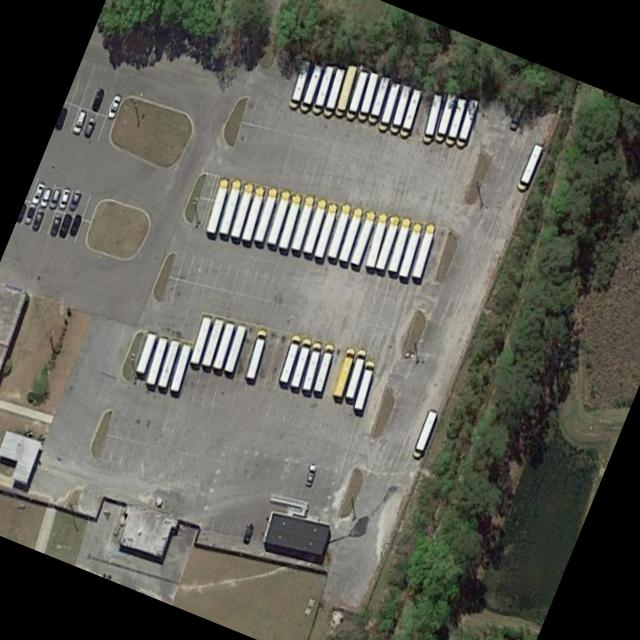large-vehicle: (240, 182, 266, 239), (252, 185, 278, 240), (348, 208, 374, 263), (397, 219, 422, 275), (301, 197, 327, 250), (266, 186, 291, 241), (326, 200, 350, 257), (312, 201, 337, 255), (515, 141, 542, 191), (332, 62, 357, 116), (411, 220, 435, 276), (374, 214, 399, 267), (276, 191, 300, 246), (290, 193, 314, 248), (338, 205, 362, 259), (229, 180, 253, 234), (205, 176, 228, 231), (297, 62, 322, 112), (344, 67, 368, 119), (376, 79, 400, 131), (410, 409, 436, 457), (398, 85, 422, 136), (387, 216, 410, 269), (287, 58, 311, 108), (218, 177, 240, 231), (365, 75, 389, 124), (388, 82, 411, 133), (222, 322, 246, 370), (310, 64, 333, 114), (433, 91, 456, 141), (443, 95, 466, 145), (454, 96, 477, 146), (322, 65, 344, 117), (200, 315, 223, 364), (331, 346, 354, 395), (188, 314, 211, 361), (144, 336, 167, 382), (277, 332, 299, 380), (343, 348, 365, 396), (352, 360, 374, 408), (356, 70, 377, 120), (421, 92, 442, 142), (157, 337, 179, 384), (211, 319, 233, 366), (289, 336, 310, 385), (168, 341, 189, 389), (313, 342, 333, 390), (246, 326, 265, 375), (301, 341, 320, 388), (134, 331, 156, 370)
small-vehicle: (104, 92, 122, 118), (56, 210, 72, 237), (70, 107, 86, 133), (46, 183, 62, 208), (65, 186, 81, 210), (36, 183, 52, 206), (29, 179, 44, 203), (89, 87, 104, 110), (81, 114, 96, 137), (29, 206, 44, 229), (47, 211, 62, 234), (67, 212, 81, 235), (507, 107, 521, 129), (22, 200, 36, 222), (56, 186, 70, 207), (241, 522, 253, 541), (304, 469, 314, 485)
